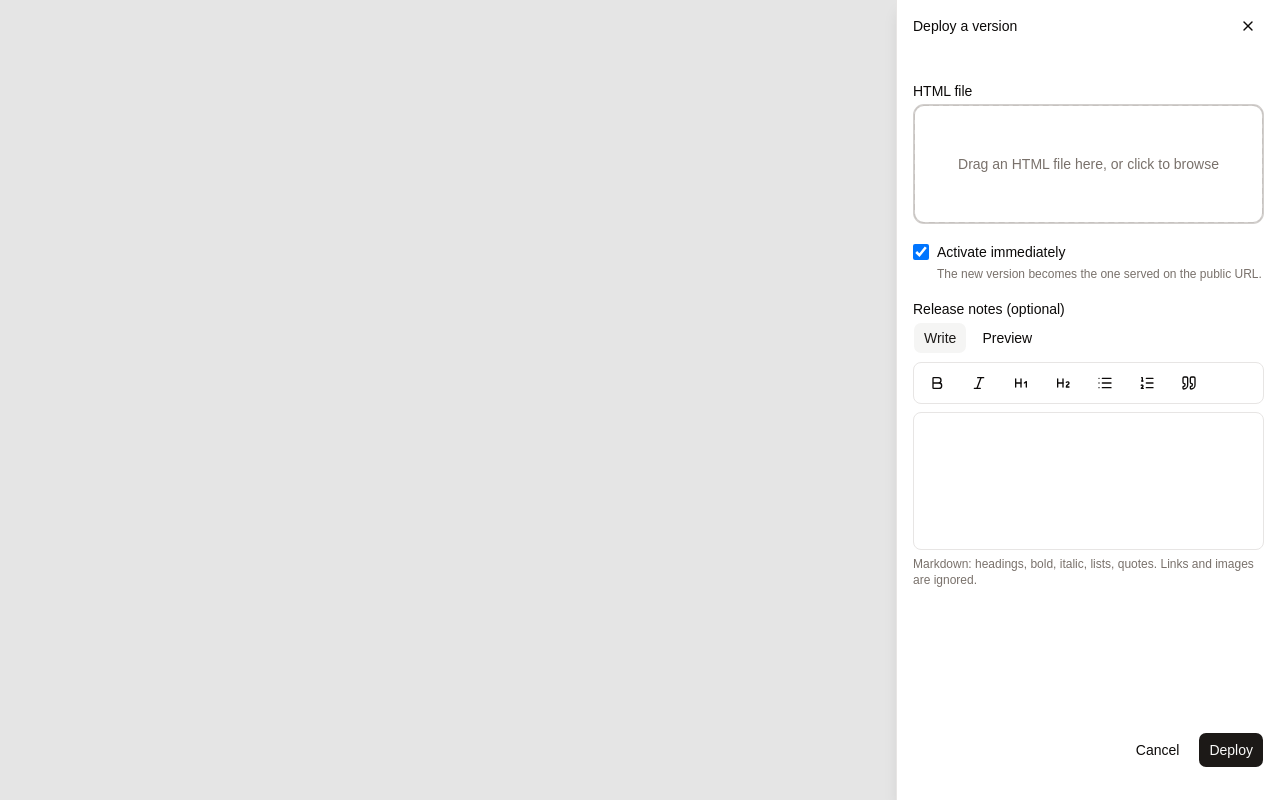
Scenario: DeployPanel › blocks submit and shows an error when no file is selected
Click the button "Deploy": click(1231, 750) [1198,732,1264,768]
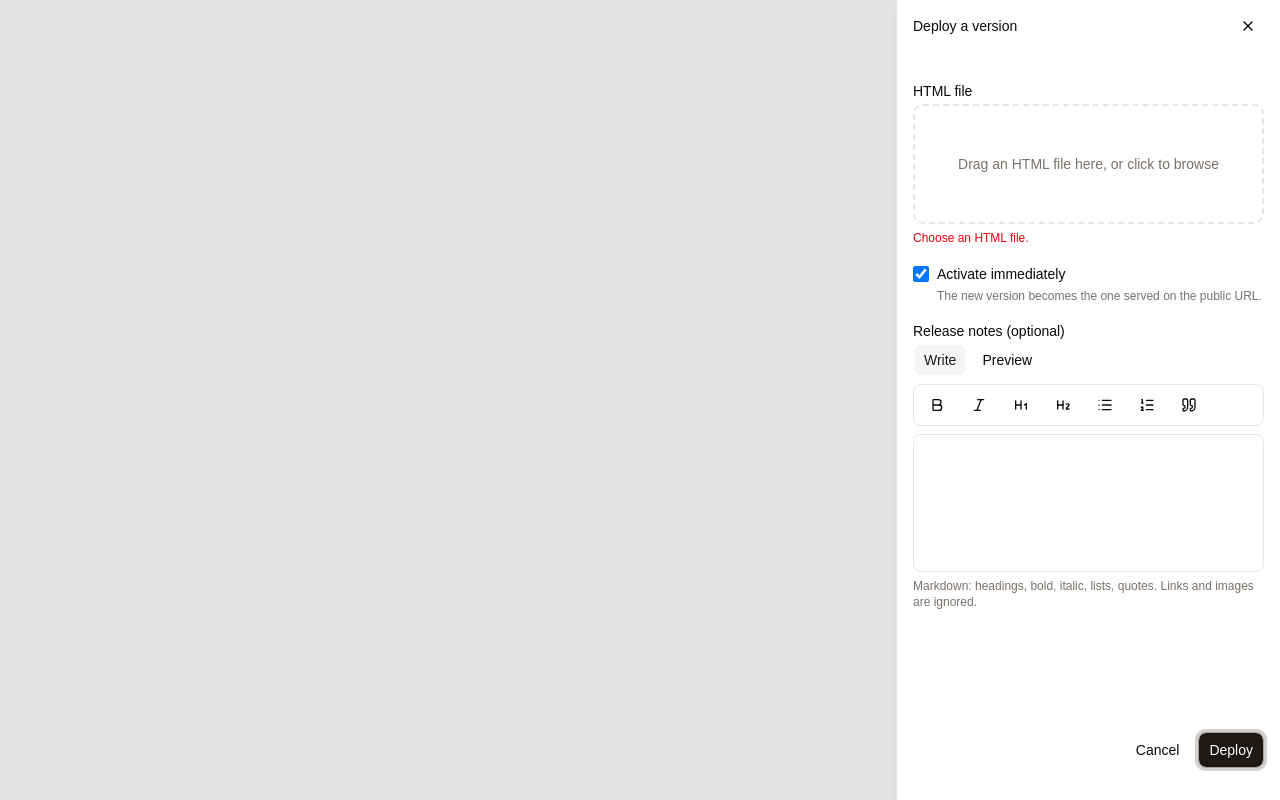
Result: the text "Choose an HTML file." is shown at [913,231,1029,245]
